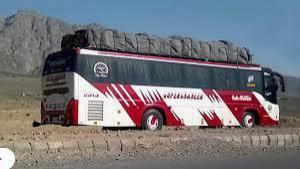bus: (39, 28, 286, 132)
